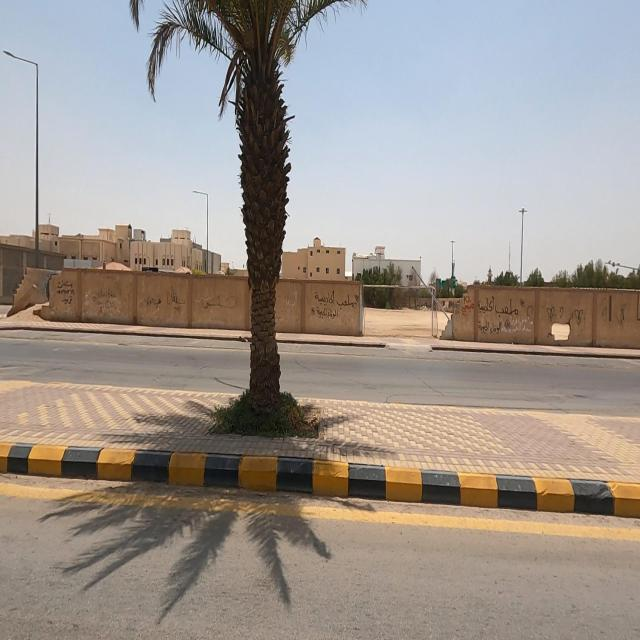Graffiti: (478, 295, 534, 338), (312, 290, 360, 320), (92, 286, 121, 316), (201, 296, 239, 312), (167, 288, 186, 317), (57, 280, 75, 307), (547, 304, 565, 322), (463, 295, 476, 316), (145, 295, 163, 310), (618, 302, 626, 326), (601, 299, 609, 321), (576, 309, 585, 327)
